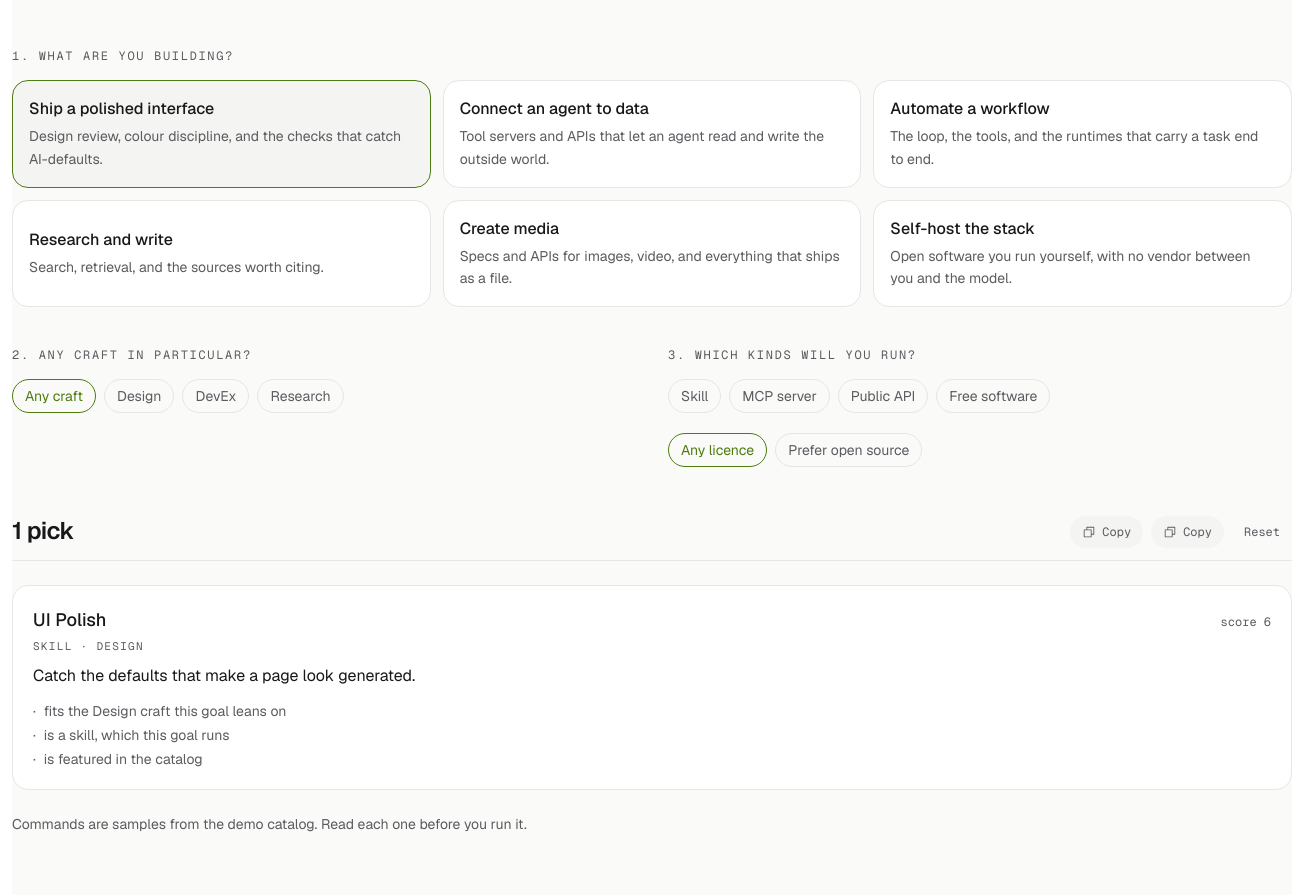
StackChooser › re-scores when the goal changes
The image size is (1304, 895).
Step 1. Click the button "Connect an agent to data" → (652, 134), box [443,80,861,188]
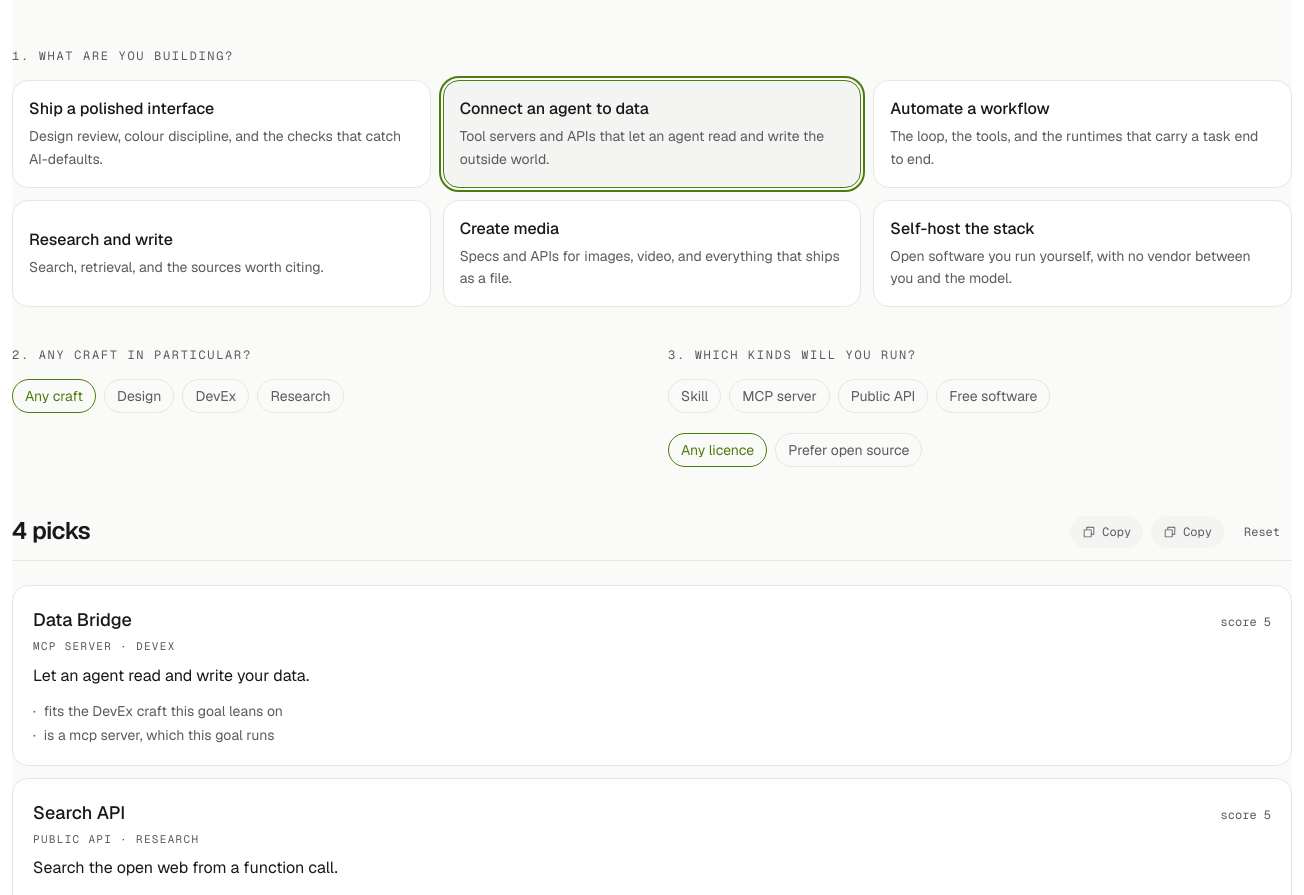
Expected: the heading "4 picks" is shown, [12,515,90,547]
Expected: the link "Data Bridge" is shown, [33,606,132,634]
Expected: the link "Search API" is shown, [33,798,125,826]
